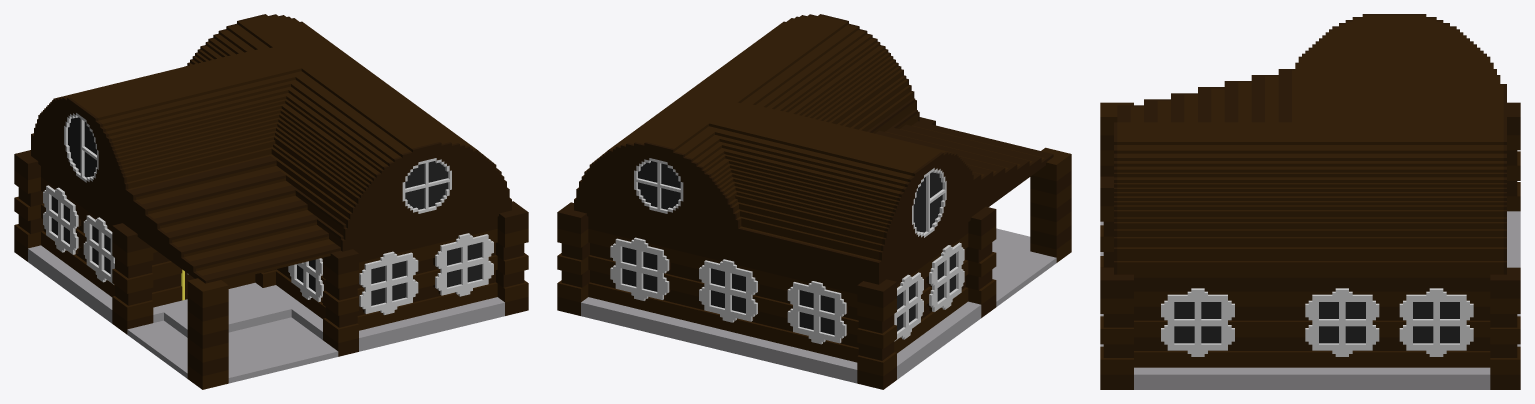
The model's file is house.obj.
3 renders of one model, left to right at view 1: azimuth 30°, elevation 25°; view 2: azimuth 150°, elevation 25°; view 3: azimuth 270°, elevation 25°, orthographic. The views are drawn at different scales.
Size of the model in its own units: 12.5 by 6.7 by 12.5.
Materials: 1 (1 with a texture image).
